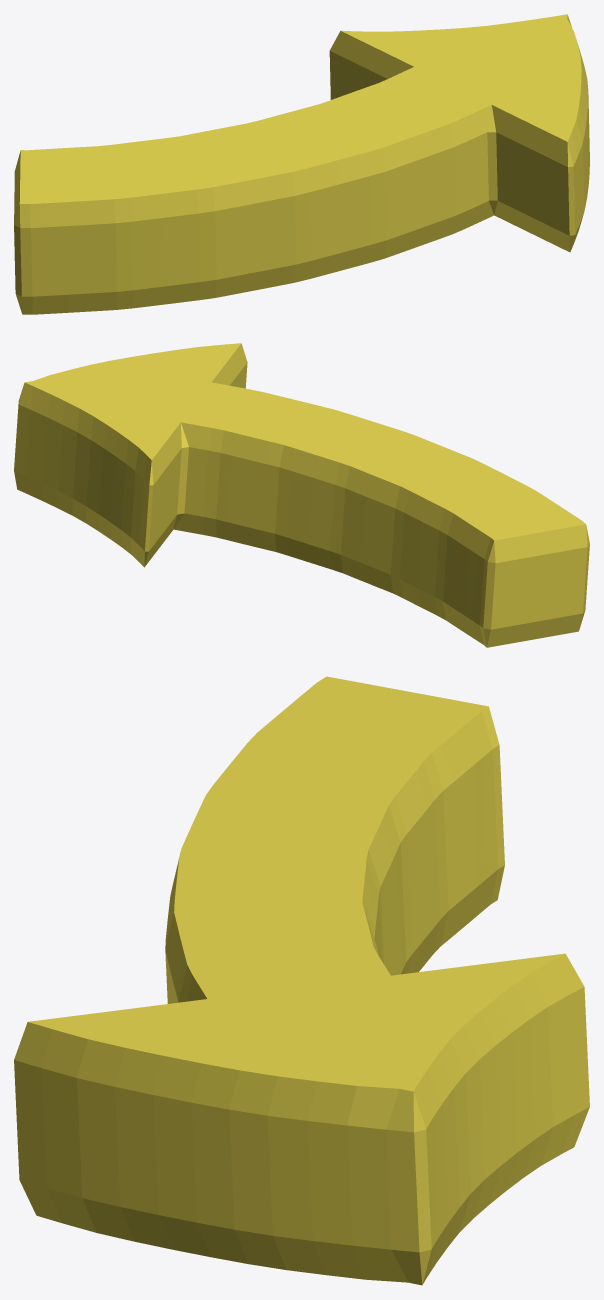
File: arrow_rotated.glb
3 renders of one model, top to bottom at view 1: azimuth 30°, elevation 25°; view 2: azimuth 150°, elevation 25°; view 3: azimuth 270°, elevation 25°, orthographic. The views are drawn at different scales.
Parts seen in each view (by area): view 1: ArrowRotated; view 2: ArrowRotated; view 3: ArrowRotated.
Boxes of the visible parts, x1,y1,x2,y2 form: ArrowRotated: (14,14,589,314); ArrowRotated: (14,343,589,647); ArrowRotated: (14,676,589,1285).
Size of the model in its own units: 0.1884 by 0.0444 by 0.0962.
